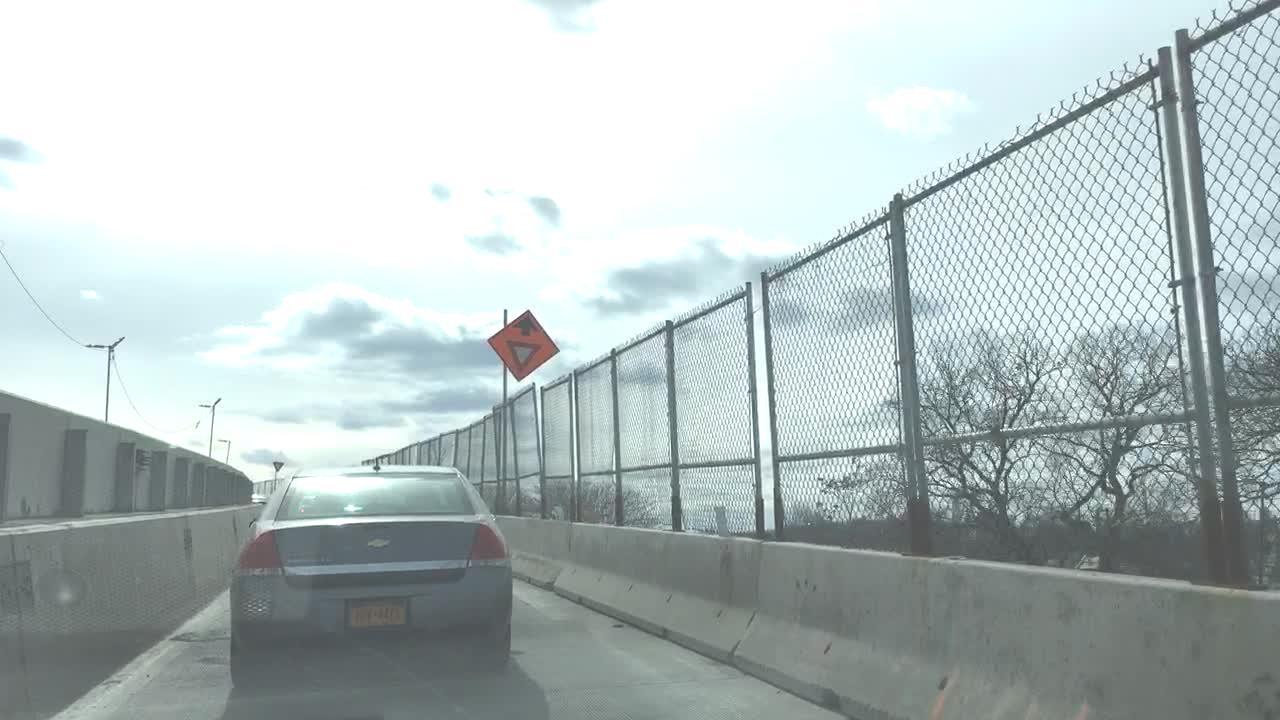chevrolet: (365, 536, 394, 554)
